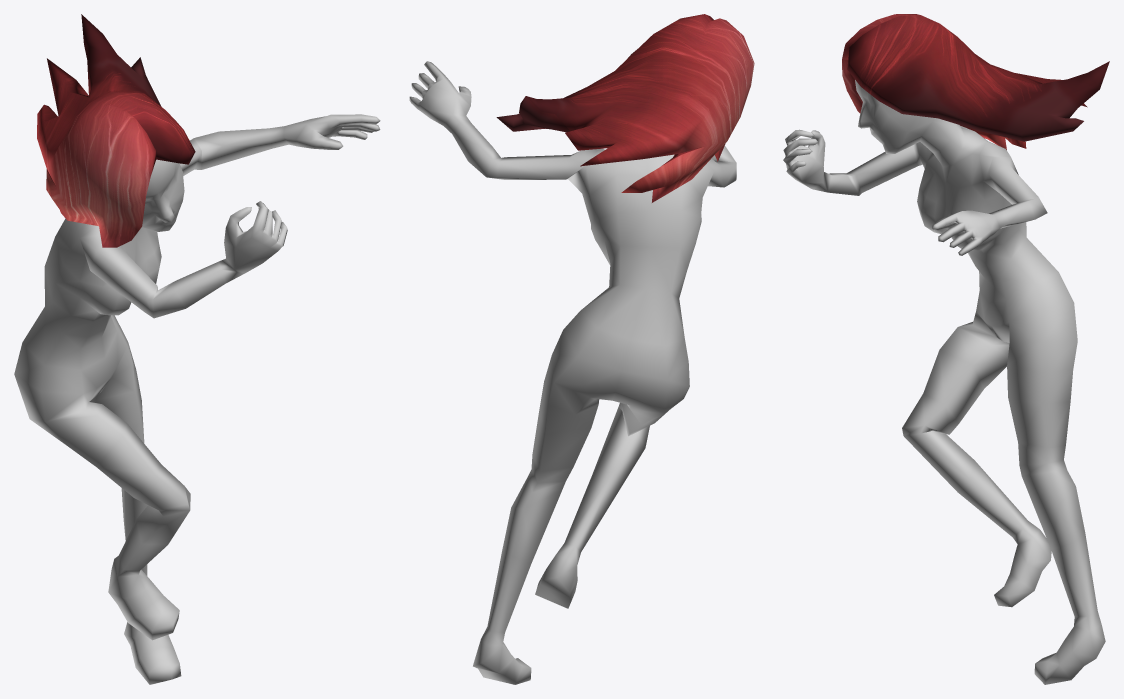
File: R_Pos.FBX
3 views of the same model, side by side, from view 1: azimuth 30°, elevation 25°; view 2: azimuth 150°, elevation 25°; view 3: azimuth 270°, elevation 25° (orthographic). The views are drawn at different scales.
Visible parts, largest first — view 1: 2_B_001, 2_H_011; view 2: 2_B_001, 2_H_011; view 3: 2_B_001, 2_H_011.
Boxes of the visible parts, <box> form: 2_B_001: <box>14,114,380,684</box>; 2_H_011: <box>37,14,195,247</box>; 2_B_001: <box>409,61,736,684</box>; 2_H_011: <box>496,14,754,202</box>; 2_B_001: <box>783,80,1105,684</box>; 2_H_011: <box>842,14,1109,149</box>.
Size of the model in its own units: 136 by 131 by 270.
